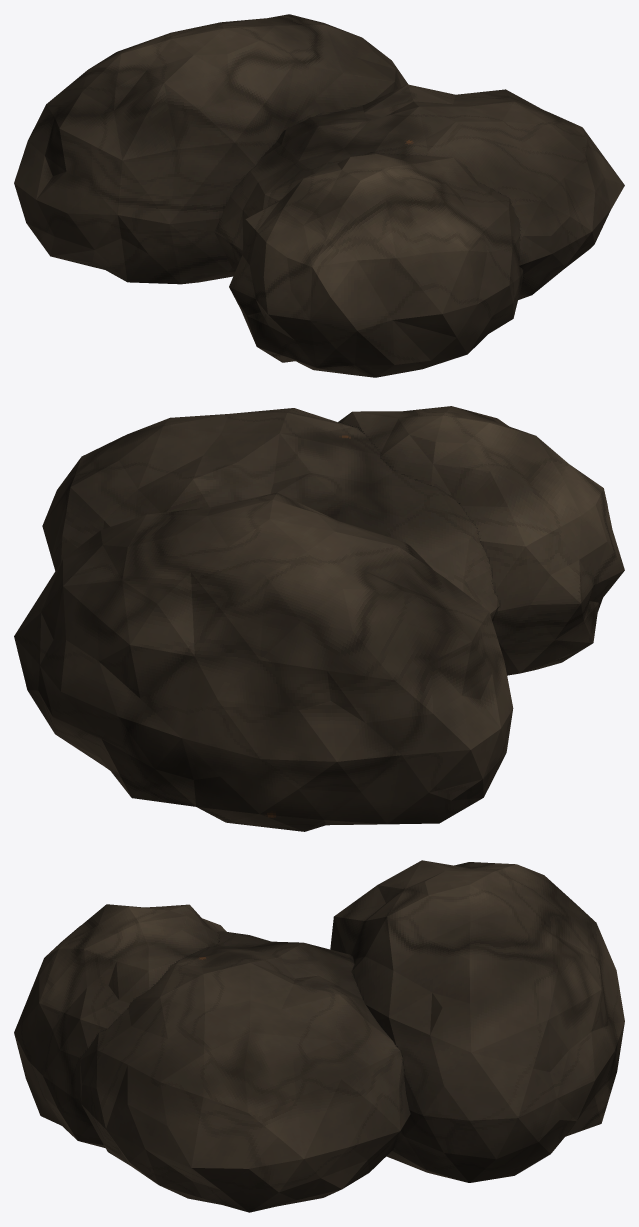
Rendered from ramp_rock_small_a.glb.
3 views of the same model, one above another, from view 1: azimuth 30°, elevation 25°; view 2: azimuth 150°, elevation 25°; view 3: azimuth 270°, elevation 25° (orthographic). The views are drawn at different scales.
Parts seen in each view (by area): view 1: ramp_rock_small_a; view 2: ramp_rock_small_a; view 3: ramp_rock_small_a.
Boxes of the visible parts, x1,y1,x2,y2 form: ramp_rock_small_a: [14, 14, 624, 377]; ramp_rock_small_a: [14, 406, 624, 831]; ramp_rock_small_a: [14, 860, 624, 1212].
Bounding box in the file's own units: 0.7279 × 0.3076 × 0.7722.
Materials: 1 (1 with a texture image).
